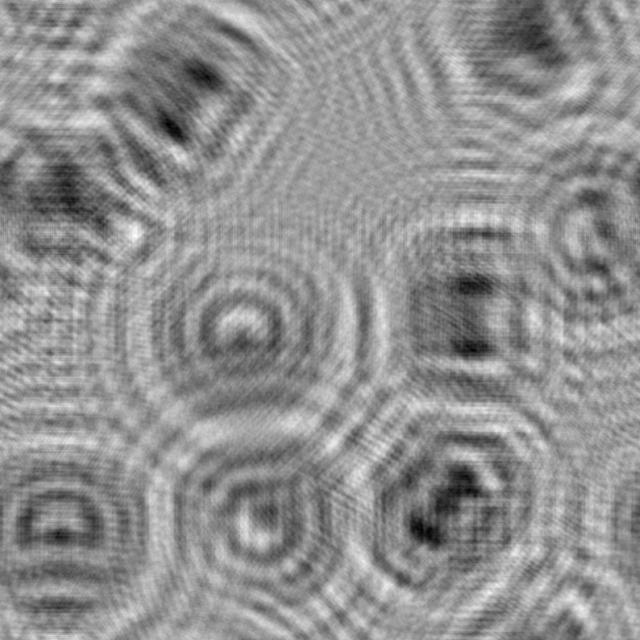A: (0, 91, 197, 305), (400, 0, 640, 159)
B: (313, 373, 583, 635)
C: (117, 200, 370, 459), (132, 395, 392, 640), (477, 111, 640, 371)
D: (0, 411, 201, 639)
E: (360, 193, 579, 458), (52, 0, 302, 224)
